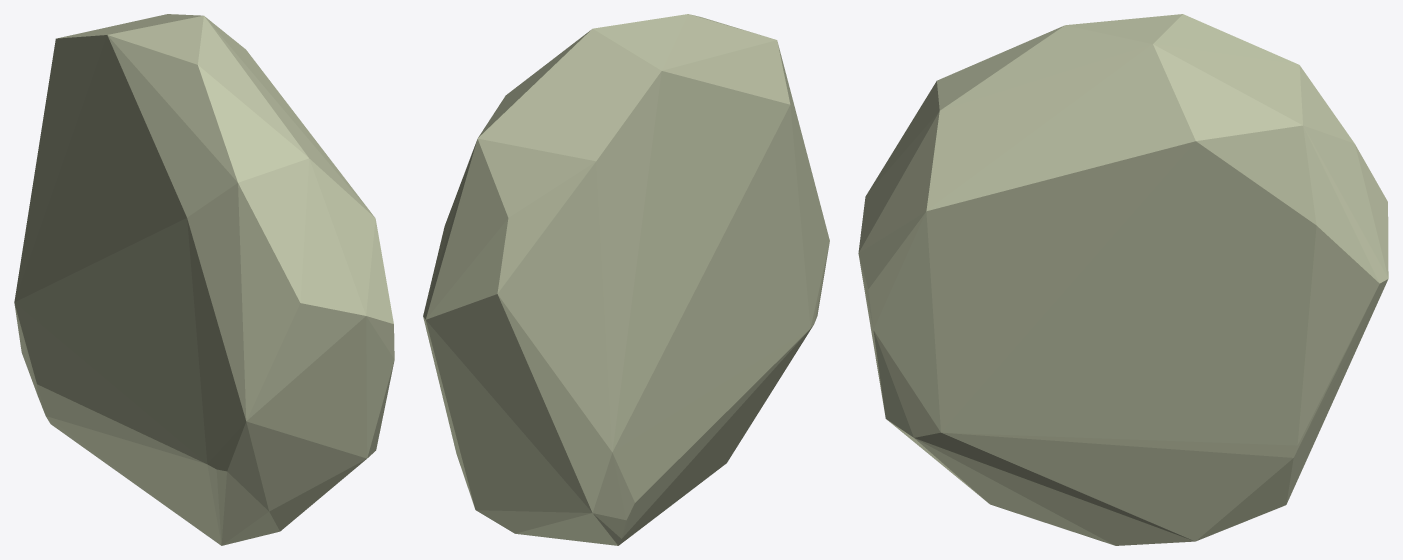
The model's file is wheelAssembly_tire_c01.glb.
3 views of the same model, side by side, from view 1: azimuth 30°, elevation 25°; view 2: azimuth 150°, elevation 25°; view 3: azimuth 270°, elevation 25° (orthographic). The views are drawn at different scales.
Visible parts, largest first — view 1: geometry_0; view 2: geometry_0; view 3: geometry_0.
Part boxes in pixels (bbox=[...]): geometry_0: bbox=[14, 14, 394, 545]; geometry_0: bbox=[423, 14, 829, 545]; geometry_0: bbox=[858, 14, 1388, 545].
Size of the model in its own units: 0.1718 by 0.4787 by 0.4639.
